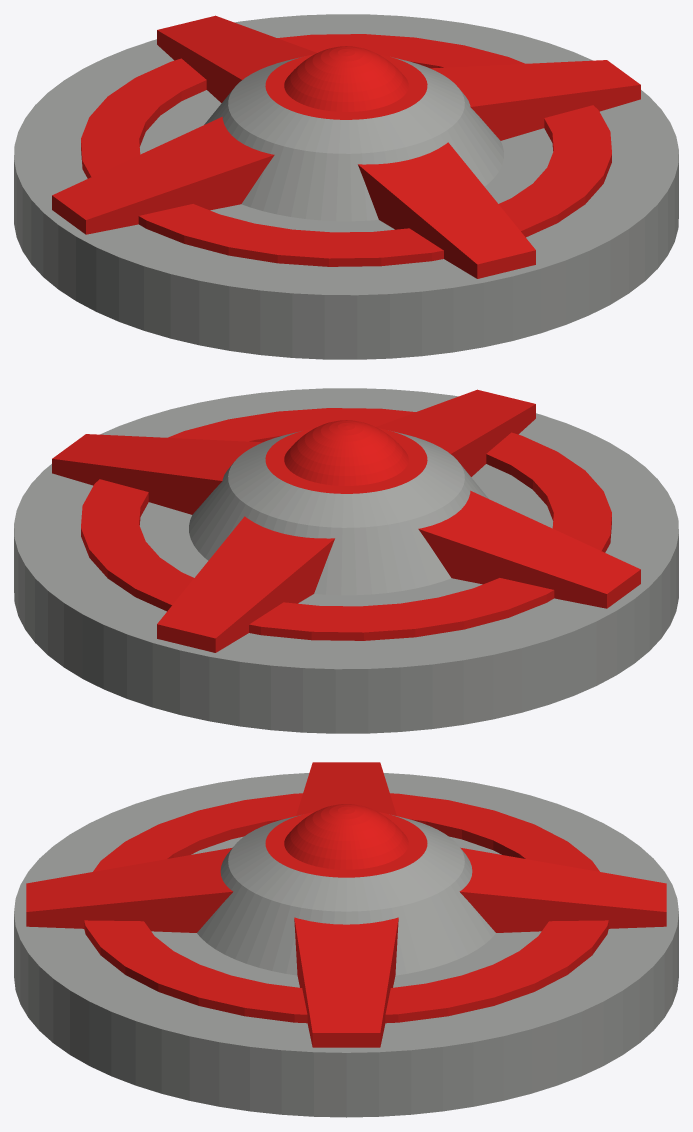
Rendered from Landmine_Fire.fbx.
3 renders of one model, top to bottom at view 1: azimuth 30°, elevation 25°; view 2: azimuth 150°, elevation 25°; view 3: azimuth 270°, elevation 25°, orthographic.
Parts seen in each view (by area): view 1: Circle; view 2: Circle; view 3: Circle.
Boxes of the visible parts, x1,y1,x2,y2 form: Circle: [14, 14, 678, 359]; Circle: [14, 388, 678, 733]; Circle: [14, 762, 678, 1117].
Bounding box in the file's own units: 200 × 55.49 × 200.
Materials: 1 (1 with a texture image).
